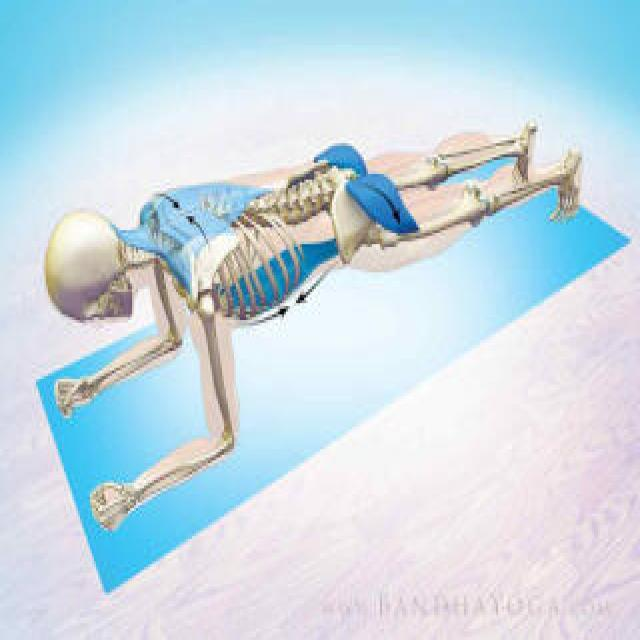yoga-pose plank: (45, 116, 589, 528)
